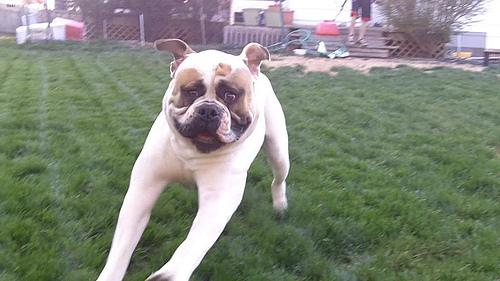dog-american_bulldog: (152, 36, 268, 152)
